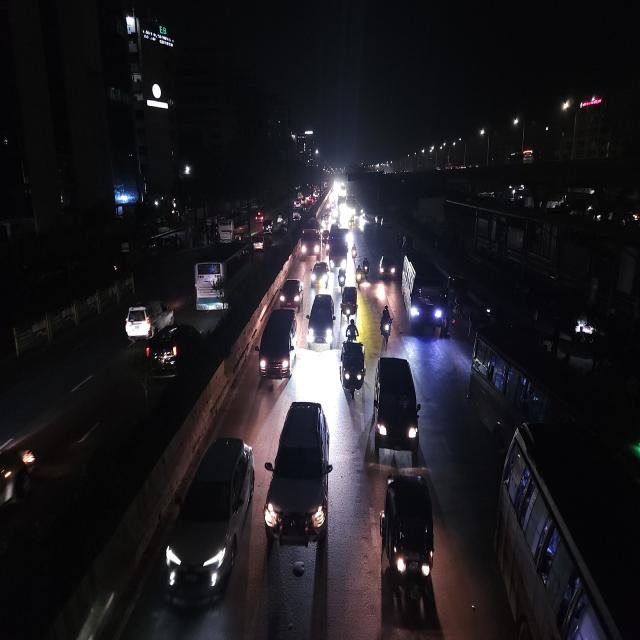bus: (494, 418, 640, 640), (469, 331, 539, 441), (190, 241, 252, 316), (400, 246, 450, 335), (217, 217, 246, 242)
car: (161, 430, 255, 614), (265, 395, 333, 551), (372, 351, 422, 455), (256, 306, 298, 388), (144, 321, 202, 380), (123, 294, 175, 340), (306, 290, 336, 354), (278, 276, 304, 310), (309, 258, 331, 293), (341, 283, 360, 320), (378, 251, 396, 284), (252, 232, 266, 254), (263, 218, 274, 234)
cng: (379, 469, 438, 593), (340, 338, 366, 401), (341, 283, 359, 319)
motorcycle: (379, 302, 393, 344), (358, 254, 370, 284), (336, 265, 348, 292), (351, 243, 359, 263)
truck: (326, 223, 350, 271), (299, 217, 322, 261)
